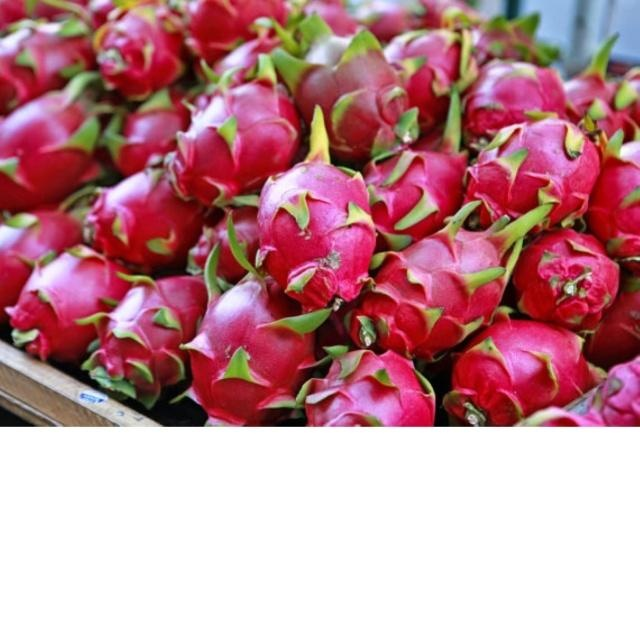xoai: (354, 198, 555, 352), (236, 112, 376, 316), (193, 240, 328, 425), (263, 8, 410, 160), (169, 68, 305, 206), (341, 94, 467, 240), (82, 270, 214, 405), (442, 319, 604, 424), (466, 111, 600, 231), (1, 69, 108, 217), (6, 245, 124, 363), (85, 162, 205, 277), (380, 28, 476, 146), (304, 348, 437, 427), (558, 32, 636, 152), (514, 228, 618, 317), (93, 3, 186, 98), (0, 17, 93, 110), (470, 56, 567, 138)
